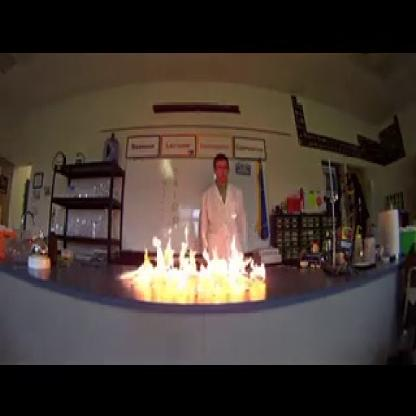fire: (116, 220, 269, 291)
